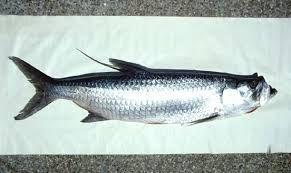Indo-Pacific Tarpon: (6, 45, 279, 130)
